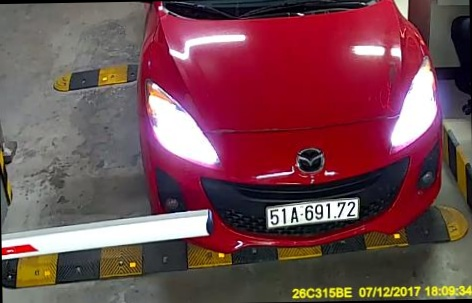plate: (256, 187, 361, 236)
